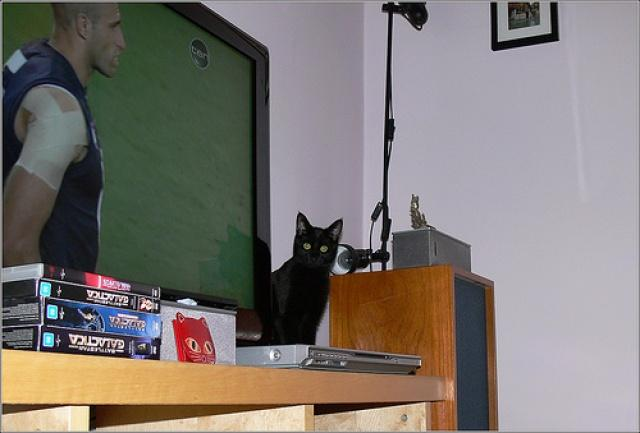AIO PC-Monitor-TV: (0, 0, 270, 340)
